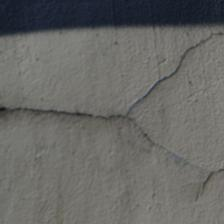Crack: (102, 67, 198, 158), (143, 139, 207, 213), (91, 74, 147, 99)
